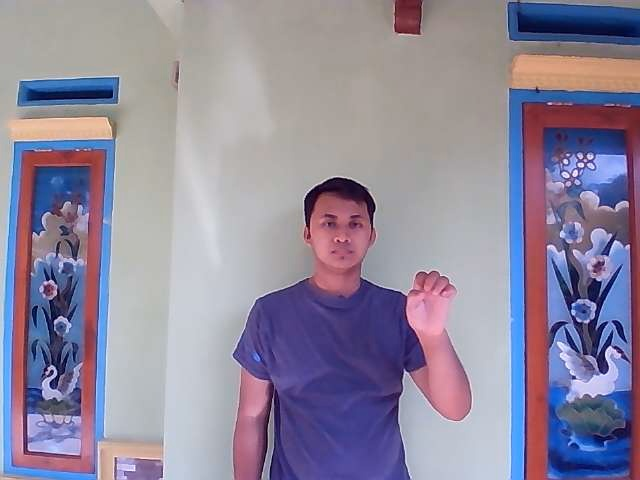E: (402, 265, 462, 352)
